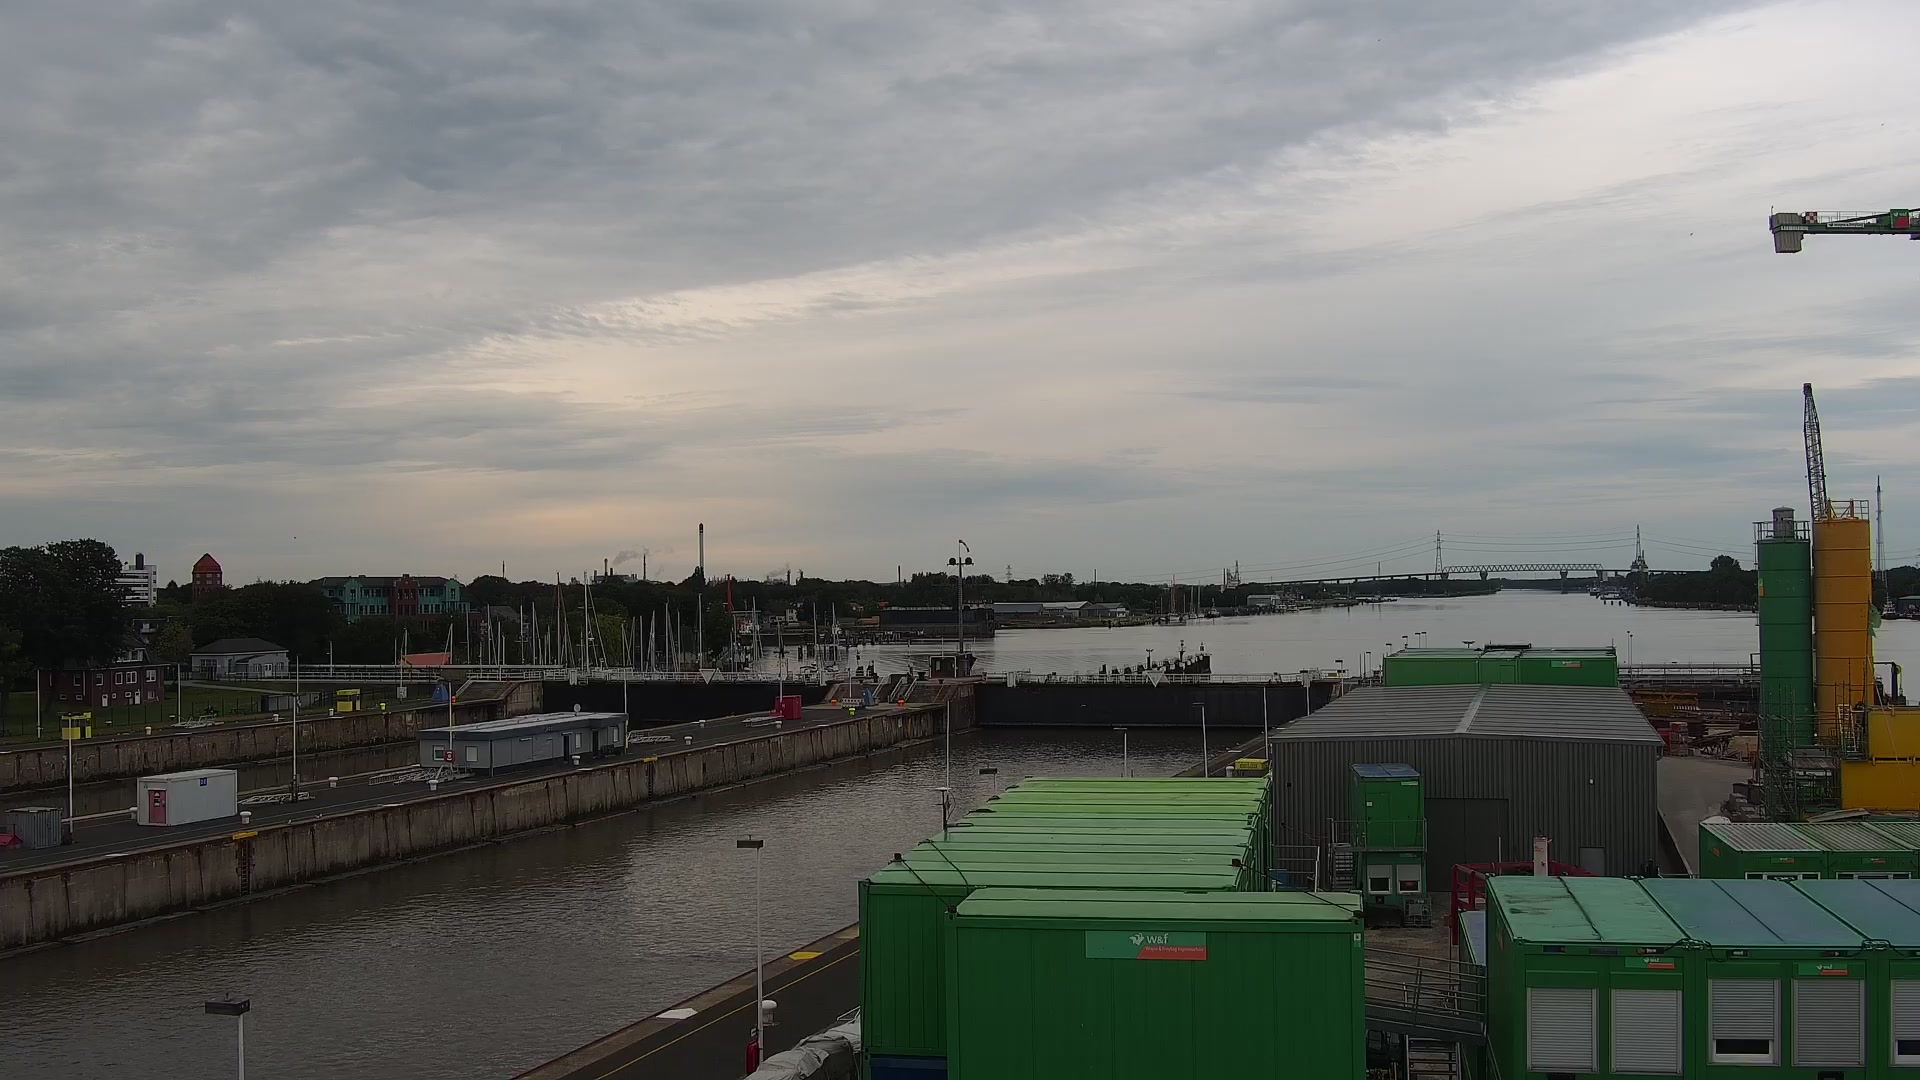sea: (1158, 612, 1185, 625), (1880, 600, 1898, 620), (1189, 583, 1197, 618), (1207, 605, 1221, 618), (1589, 582, 1600, 597)
